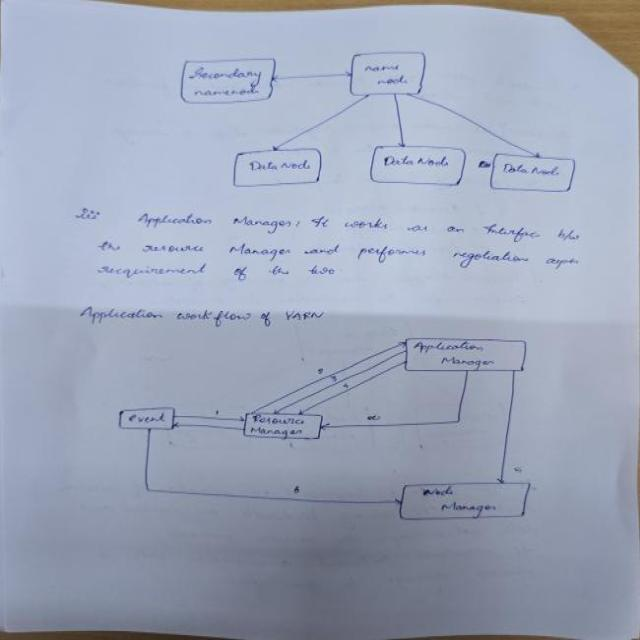Figure Detection - v3 Dataset Version2: (96, 330, 557, 546), (150, 41, 602, 210)
